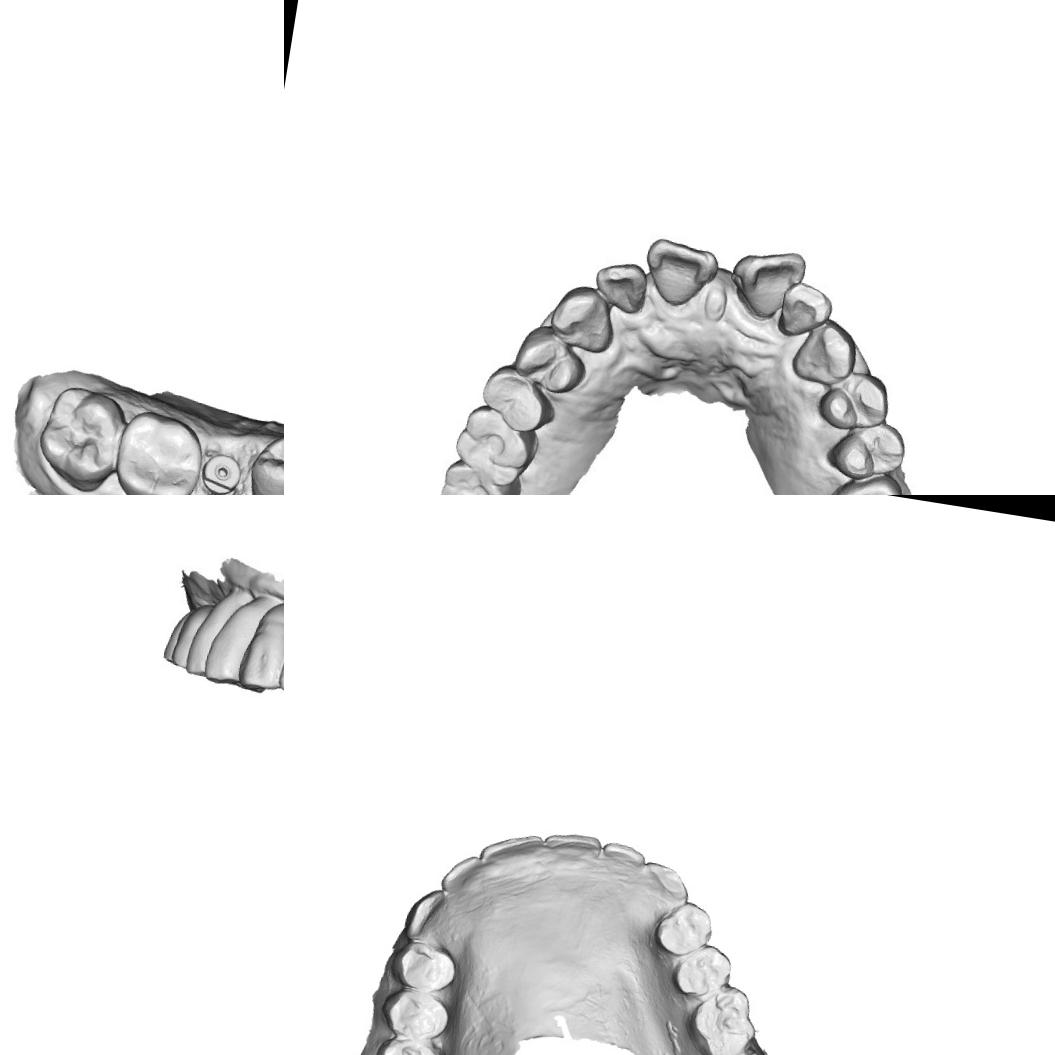canine: (233, 594, 284, 697), (552, 287, 618, 355), (792, 318, 860, 384), (634, 858, 694, 922), (401, 883, 454, 946)
implant: (196, 450, 245, 495)
incisor: (732, 242, 806, 320), (644, 236, 720, 308), (774, 275, 837, 343), (478, 826, 546, 878), (594, 259, 656, 315), (540, 824, 604, 870), (598, 839, 650, 889), (437, 848, 484, 902)
molar: (30, 381, 128, 495), (108, 406, 210, 495), (451, 402, 537, 482), (681, 979, 764, 1055), (432, 459, 515, 495), (366, 1031, 451, 1055), (824, 474, 907, 495)
premolar: (480, 364, 556, 436), (648, 894, 718, 962), (376, 984, 453, 1043), (386, 936, 461, 996), (824, 369, 894, 433), (668, 938, 736, 1002), (516, 328, 582, 390), (837, 420, 904, 481), (245, 426, 284, 495)
